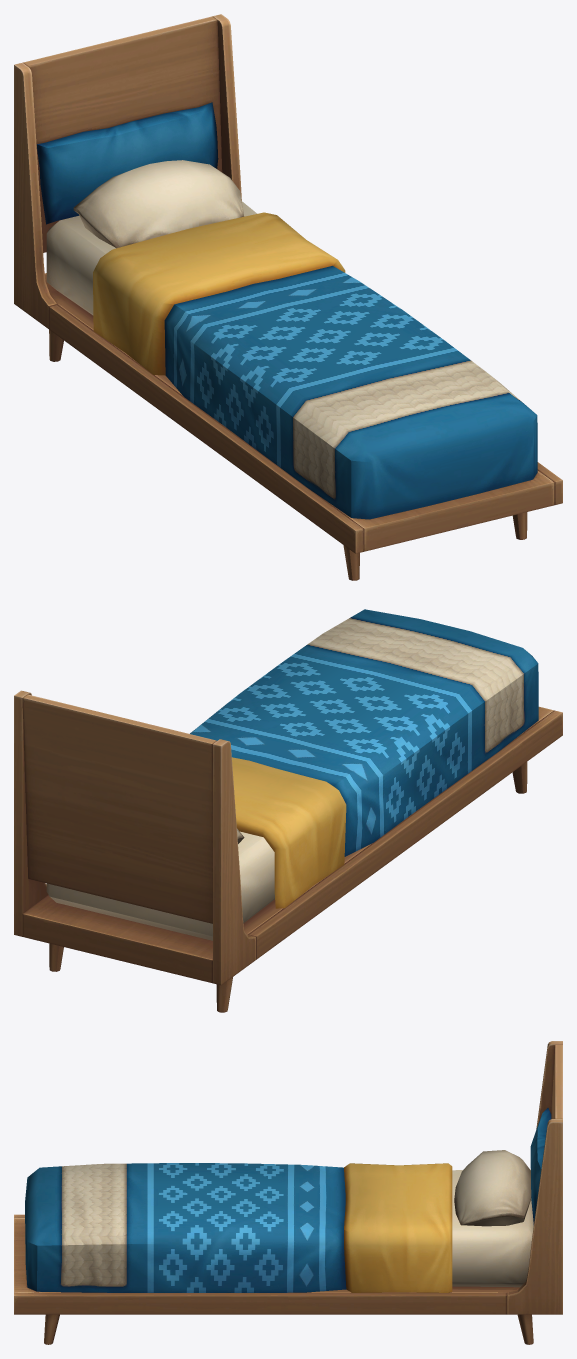
File: 省空间单人件.glb
3 renders of one model, top to bottom at view 1: azimuth 30°, elevation 25°; view 2: azimuth 150°, elevation 25°; view 3: azimuth 270°, elevation 25°, orthographic. The views are drawn at different scales.
Parts seen in each view (by area): view 1: TinyLiving_Space-SavingSingle_13; view 2: TinyLiving_Space-SavingSingle_13; view 3: TinyLiving_Space-SavingSingle_13.
Boxes of the visible parts, x1=… form: TinyLiving_Space-SavingSingle_13: x1=14, y1=14, x2=562, y2=580; TinyLiving_Space-SavingSingle_13: x1=14, y1=609, x2=562, y2=1012; TinyLiving_Space-SavingSingle_13: x1=14, y1=1041, x2=562, y2=1344.
Size of the model in its own units: 0.85 by 1.11 by 2.43.
1 material, 1 textured.
